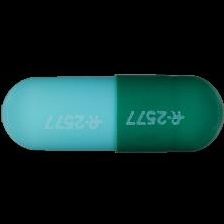68258-6046: (0, 0, 224, 224)
